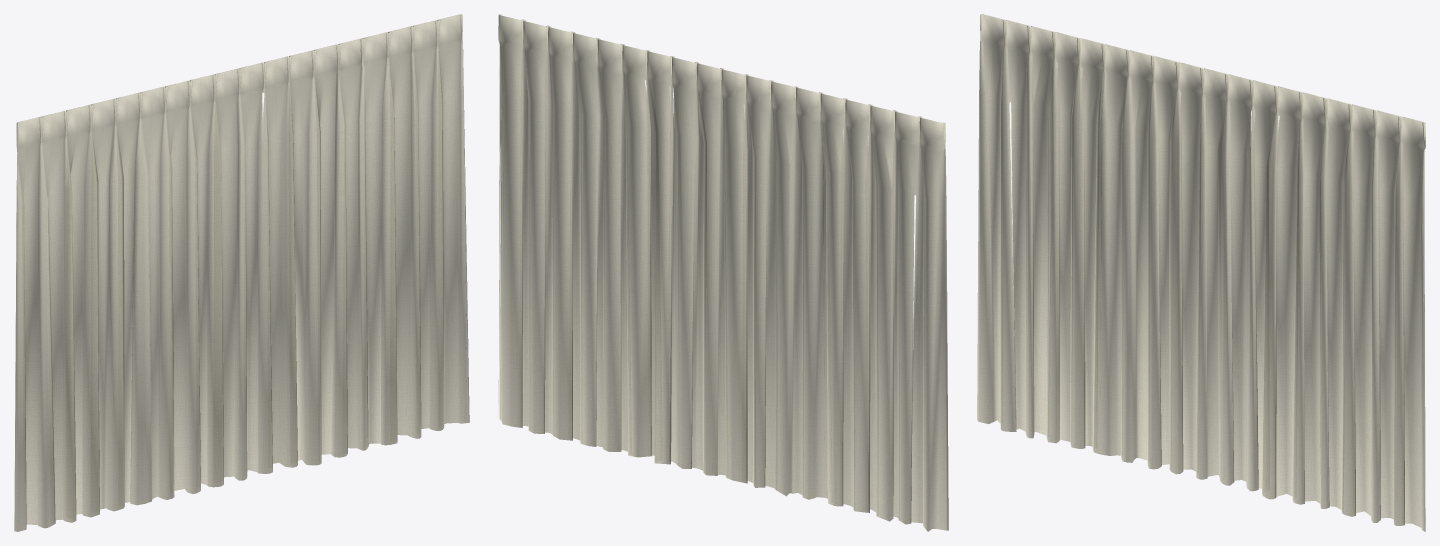
File: sweethome3d-scopia-curtain.glb
3 views of the same model, side by side, from view 1: azimuth 30°, elevation 25°; view 2: azimuth 150°, elevation 25°; view 3: azimuth 330°, elevation 25° (orthographic).
Visible parts, largest first — view 1: Plane; view 2: Plane; view 3: Plane.
Part boxes in pixels (box(x1,y1,x2,y2)): Plane: box(14, 14, 469, 531); Plane: box(498, 14, 948, 531); Plane: box(977, 14, 1425, 531).
Bounding box in the file's own units: 111 × 96.64 × 4.97.
Materials: 1 (1 with a texture image).
